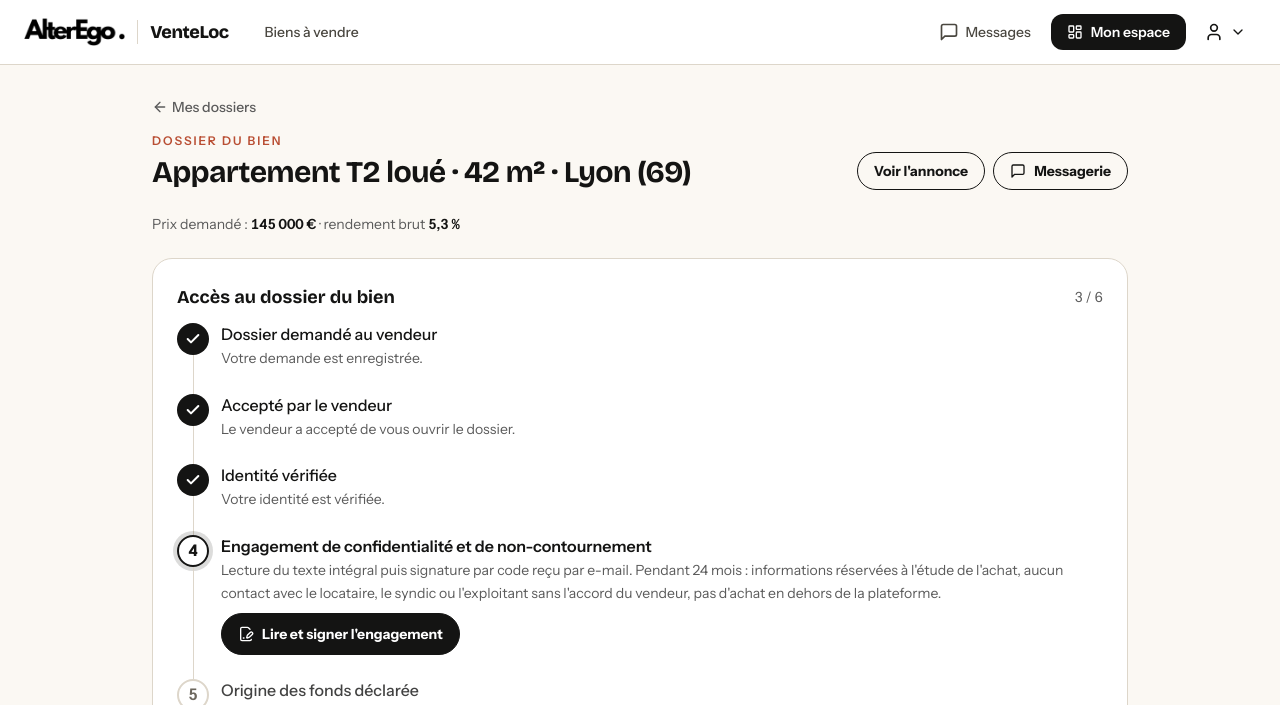
Scenario: DataroomPage › identité vérifiée : « Lire et signer l'engagement » → generate-for-signature (doc_type nda) puis dialogue
Expected: the 4th list item shows "Engagement de confidentialité et de non-contournement", [221, 536, 652, 556]
Expected: the 4th list item shows "locataire", [221, 561, 1063, 602]
Click the button with test id "nda-btn" at (340, 634), box [221, 612, 460, 654]
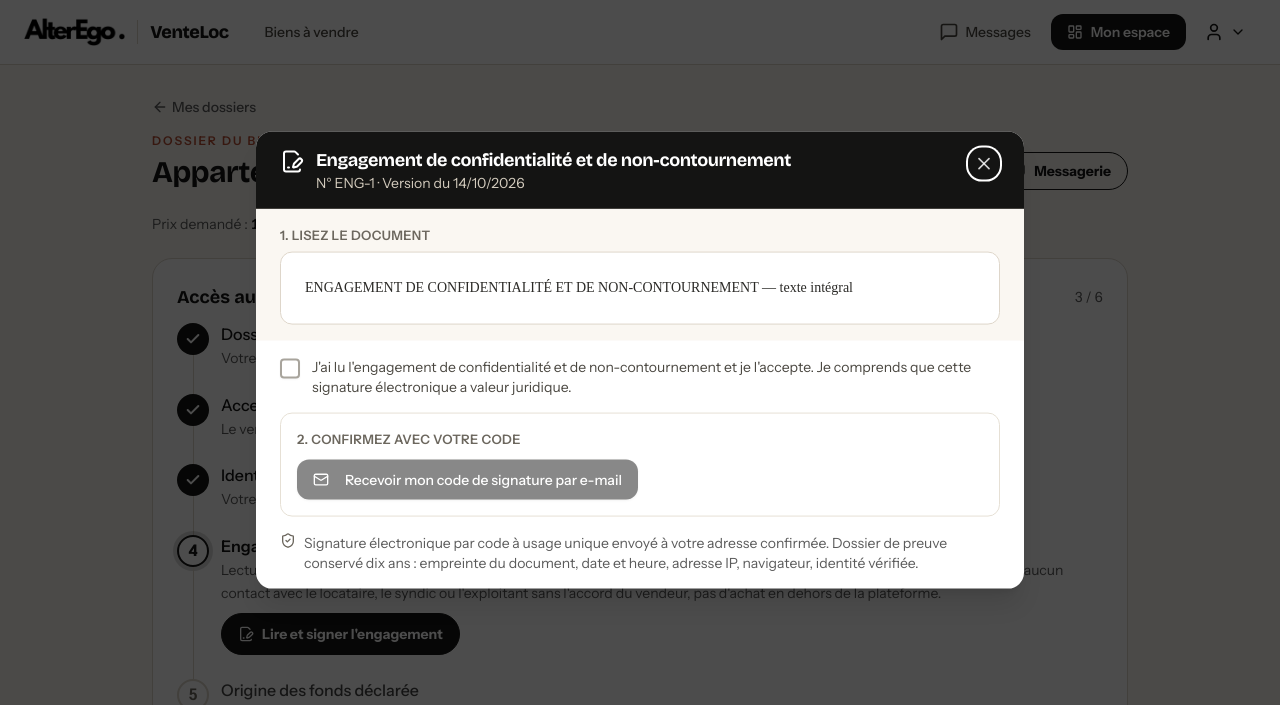
Now the dialog with test id "otp-signature-dialog" is shown, box [256, 132, 1024, 588]
Now the dialog with test id "otp-signature-dialog" shows "texte intégral", box [305, 280, 853, 294]
Now the dialog with test id "otp-signature-dialog" shows "Engagement de confidentialité et de non-contournement", box [316, 149, 791, 171]
